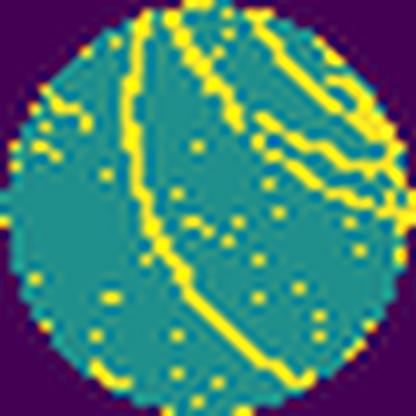Scratch: (118, 6, 317, 392), (242, 7, 416, 189), (248, 128, 416, 238), (163, 9, 246, 134)
